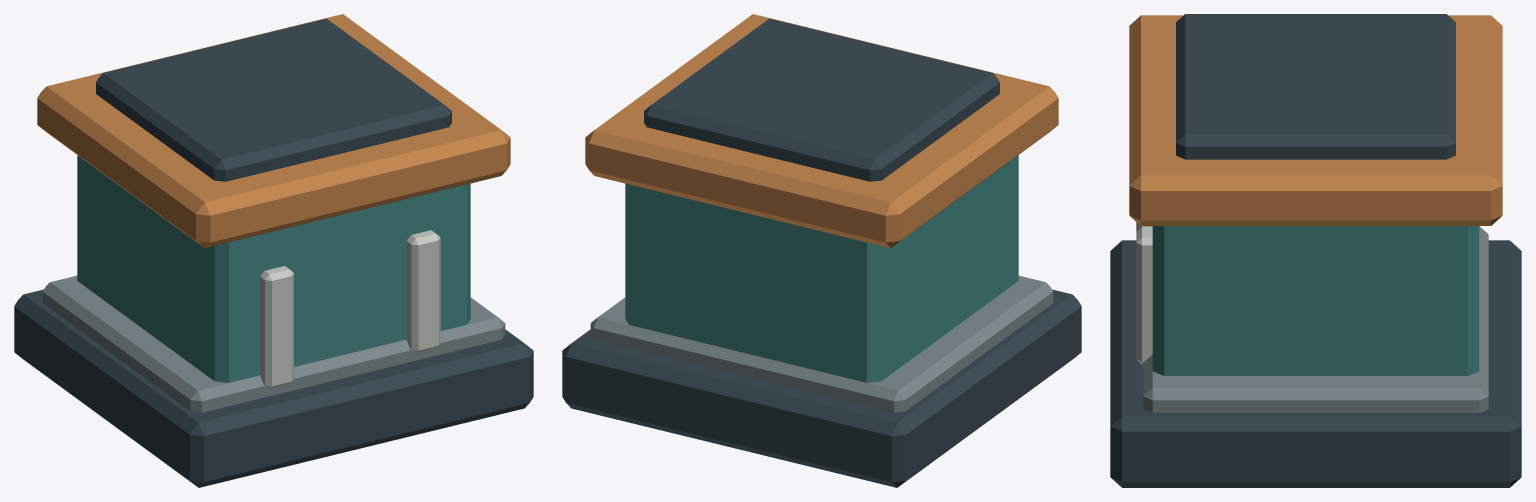
Rendered from phw_recycler.glb.
3 views of the same model, side by side, from view 1: azimuth 30°, elevation 25°; view 2: azimuth 150°, elevation 25°; view 3: azimuth 270°, elevation 25° (orthographic). The views are drawn at different scales.
Visible parts, largest first — view 1: body, hatch; view 2: body, hatch; view 3: body, hatch.
Part boxes in pixels (x1=…): body: x1=14, y1=14, x2=533, y2=487; hatch: x1=96, y1=18, x2=451, y2=181; body: x1=562, y1=14, x2=1081, y2=487; hatch: x1=644, y1=18, x2=999, y2=181; body: x1=1110, y1=15, x2=1521, y2=487; hatch: x1=1176, y1=14, x2=1455, y2=159.
Bounding box in the file's own units: 0.94 × 0.77 × 0.88.
